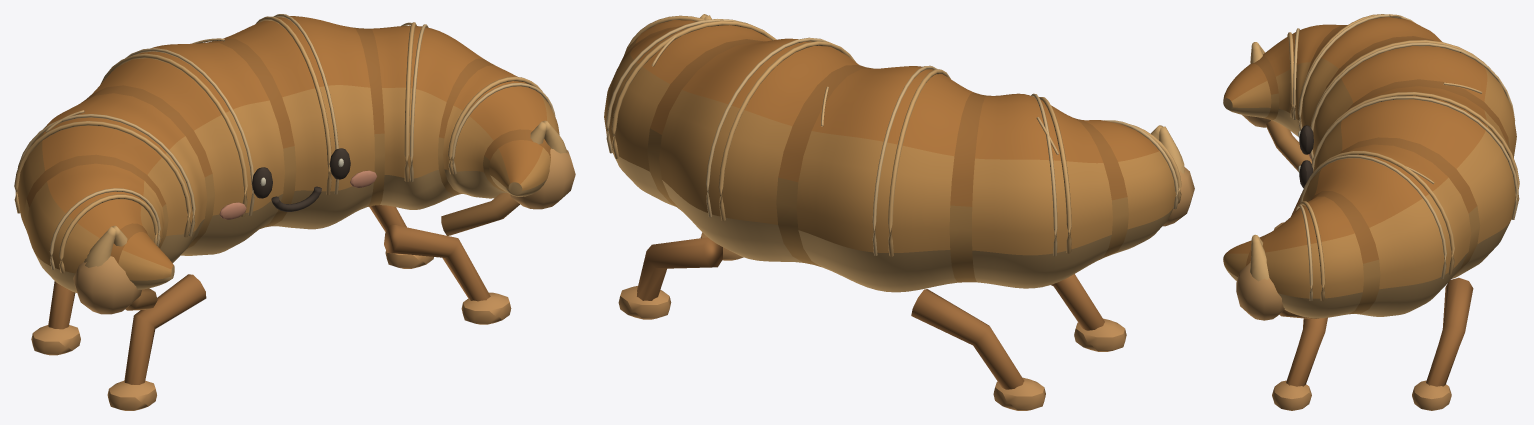
File: crumpet.glb
The picture shows the model from 3 angles, left to right: view 1: azimuth 30°, elevation 25°; view 2: azimuth 150°, elevation 25°; view 3: azimuth 270°, elevation 25°; orthographic projection. The views are drawn at different scales.
Visible parts, largest first — view 1: discovery_Head_Mesh, delight_LegL0_Mesh, delight_LegR0_Mesh, delight_ClawR_Mesh, delight_ClawL_Mesh, delight_LegL1_Mesh, delight_LegR1_Mesh, discovery_Eyes_Mesh; view 2: discovery_Head_Mesh, delight_LegL1_Mesh, delight_LegR1_Mesh, delight_LegL0_Mesh, delight_ClawL_Mesh; view 3: discovery_Head_Mesh, delight_LegR1_Mesh, delight_ClawR_Mesh, delight_LegR0_Mesh, delight_ClawL_Mesh, discovery_Eyes_Mesh.
Part boxes in pixels (x1=…): discovery_Head_Mesh: x1=14, y1=14, x2=559, y2=292; delight_LegL0_Mesh: x1=107, y1=274, x2=206, y2=410; delight_LegR0_Mesh: x1=384, y1=225, x2=511, y2=324; delight_ClawR_Mesh: x1=441, y1=120, x2=575, y2=235; delight_ClawL_Mesh: x1=73, y1=225, x2=157, y2=314; delight_LegL1_Mesh: x1=31, y1=281, x2=80, y2=355; delight_LegR1_Mesh: x1=369, y1=205, x2=433, y2=268; discovery_Eyes_Mesh: x1=252, y1=148, x2=350, y2=198; discovery_Head_Mesh: x1=604, y1=15, x2=1181, y2=292; delight_LegL1_Mesh: x1=911, y1=289, x2=1045, y2=410; delight_LegR1_Mesh: x1=618, y1=237, x2=722, y2=319; delight_LegL0_Mesh: x1=1051, y1=274, x2=1126, y2=351; delight_ClawL_Mesh: x1=1150, y1=125, x2=1194, y2=226; discovery_Head_Mesh: x1=1223, y1=14, x2=1519, y2=318; delight_LegR1_Mesh: x1=1412, y1=277, x2=1473, y2=410; delight_ClawR_Mesh: x1=1236, y1=234, x2=1318, y2=320; delight_LegR0_Mesh: x1=1272, y1=317, x2=1327, y2=410; delight_ClawL_Mesh: x1=1242, y1=42, x2=1311, y2=171; discovery_Eyes_Mesh: x1=1298, y1=125, x2=1313, y2=188.
Bounding box in the file's own units: 1.48 × 0.7669 × 0.8061.
